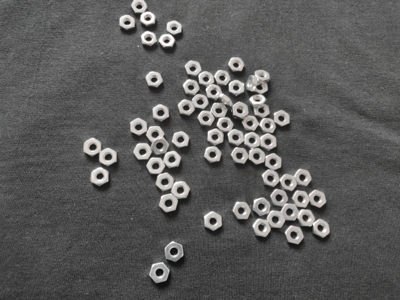nut: (165, 241, 184, 263), (150, 263, 170, 283), (285, 225, 304, 245), (253, 219, 272, 238), (252, 198, 271, 217), (270, 189, 289, 208), (156, 173, 175, 192), (204, 212, 222, 232), (232, 202, 252, 220), (171, 182, 191, 200), (313, 219, 331, 238), (267, 211, 286, 229), (160, 194, 178, 213), (91, 168, 109, 187), (99, 148, 117, 167), (84, 138, 102, 157), (151, 138, 170, 156), (291, 191, 311, 208), (298, 210, 316, 228), (262, 170, 280, 188), (164, 151, 182, 169), (204, 146, 222, 164), (280, 174, 297, 193), (147, 158, 166, 175), (146, 126, 165, 143), (231, 148, 250, 165), (281, 204, 299, 221), (310, 190, 327, 208), (295, 169, 312, 187), (172, 131, 190, 148), (131, 118, 148, 136), (153, 104, 170, 122), (249, 148, 266, 166), (228, 129, 245, 147), (232, 102, 249, 120), (134, 144, 153, 160), (145, 72, 164, 88), (207, 129, 224, 146), (261, 134, 277, 152), (245, 132, 261, 150), (178, 100, 196, 116), (266, 154, 282, 171), (214, 70, 231, 86), (141, 31, 158, 47), (119, 15, 136, 31), (206, 85, 222, 101), (186, 61, 202, 77), (260, 118, 277, 133), (242, 116, 259, 131), (198, 111, 215, 126), (211, 103, 228, 118), (183, 80, 200, 95), (198, 72, 215, 87), (217, 118, 235, 132), (275, 111, 290, 127), (254, 104, 270, 119), (218, 94, 233, 110), (193, 95, 209, 110), (229, 81, 245, 96), (159, 34, 176, 48), (249, 95, 267, 108), (141, 12, 156, 27), (254, 70, 270, 84), (229, 58, 245, 72), (132, 0, 148, 14), (167, 21, 182, 35), (247, 75, 258, 92), (255, 83, 268, 95)
